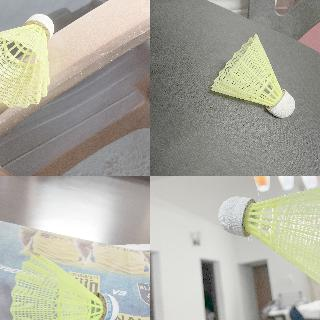shuttlecock: (217, 181, 319, 285), (210, 33, 294, 117), (10, 255, 119, 319), (0, 13, 54, 109)
